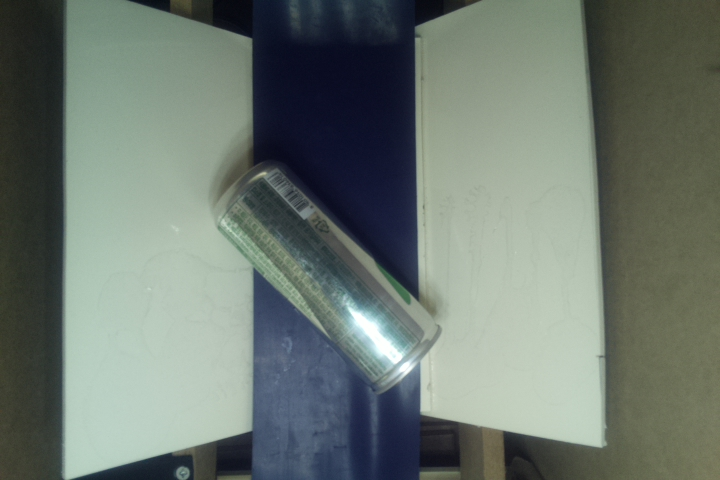can: (208, 158, 444, 398)
